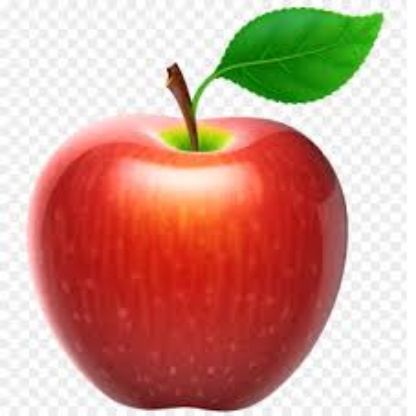tao: (31, 92, 350, 409)
